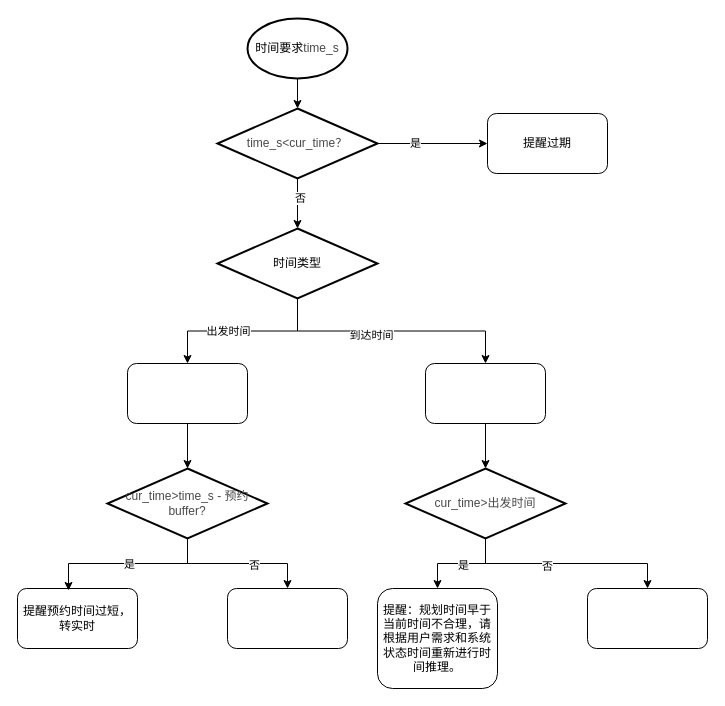
Some shapes in this 725 by 706 pixel diagram are drawn without their labels. Here are the shapes that lost their labels. From the top down, the box of each, then its label:
(126, 362, 248, 424): 推算预约buffer
(424, 362, 546, 424): 推算出发时间
(226, 588, 348, 648): 返回满足出发时间的方案
(586, 588, 708, 648): 返回满足到达时间的方案
